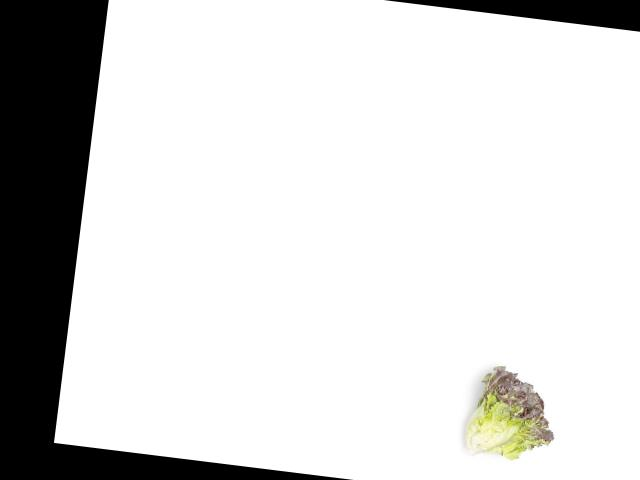lettuce: (461, 356, 560, 468)
